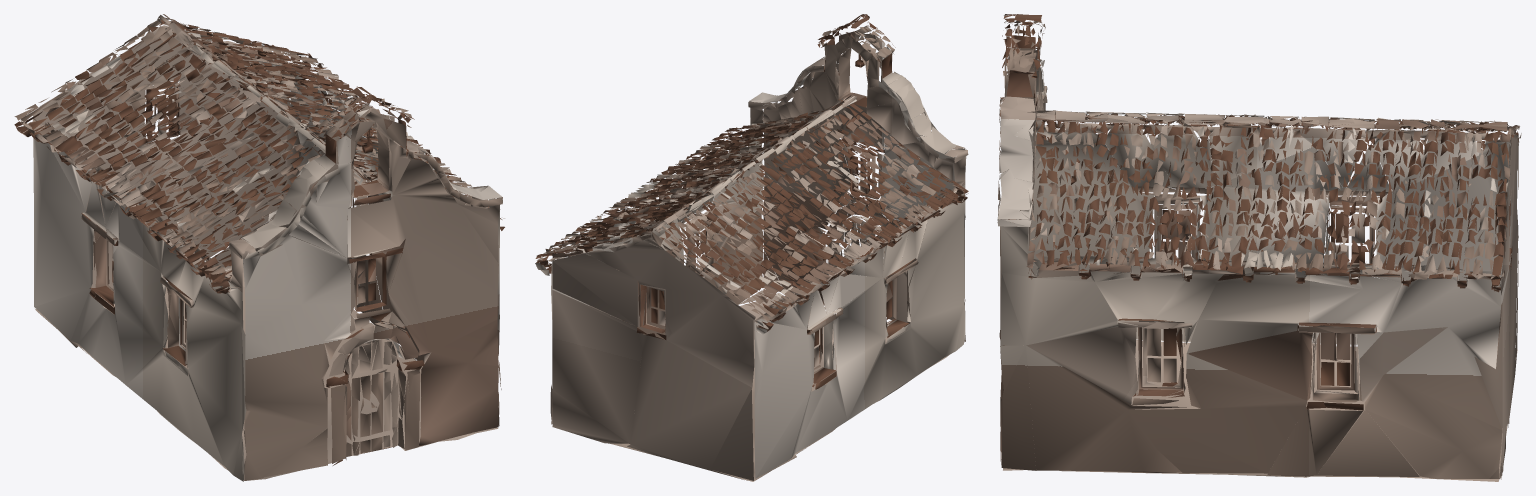
Rendered from chapel.glb.
3 renders of one model, left to right at view 1: azimuth 30°, elevation 25°; view 2: azimuth 150°, elevation 25°; view 3: azimuth 270°, elevation 25°, orthographic. The views are drawn at different scales.
Parts seen in each view (by area): view 1: LO.001; view 2: LO.001; view 3: LO.001.
Boxes of the visible parts, left/top/right/bottom form: LO.001: left=14, top=14, right=504, bottom=481; LO.001: left=535, top=14, right=968, bottom=481; LO.001: left=997, top=14, right=1521, bottom=481.
Bounding box in the file's own units: 1.43 × 1.61 × 1.95.
1 material, 1 textured.
